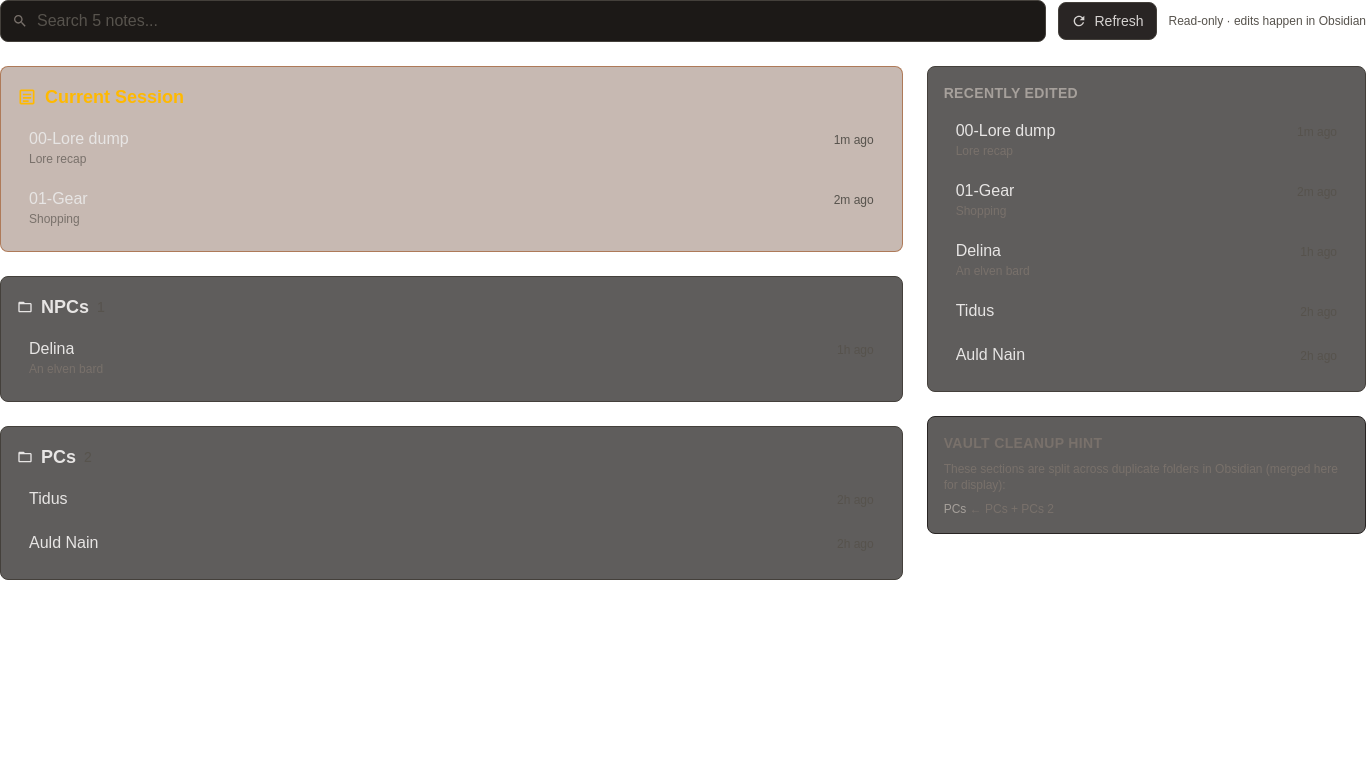
Scenario: VaultTab › opens a note in the reader modal on click
Click the text "Delina" below "NPCs" at x=52, y=349, box [29, 337, 74, 361]
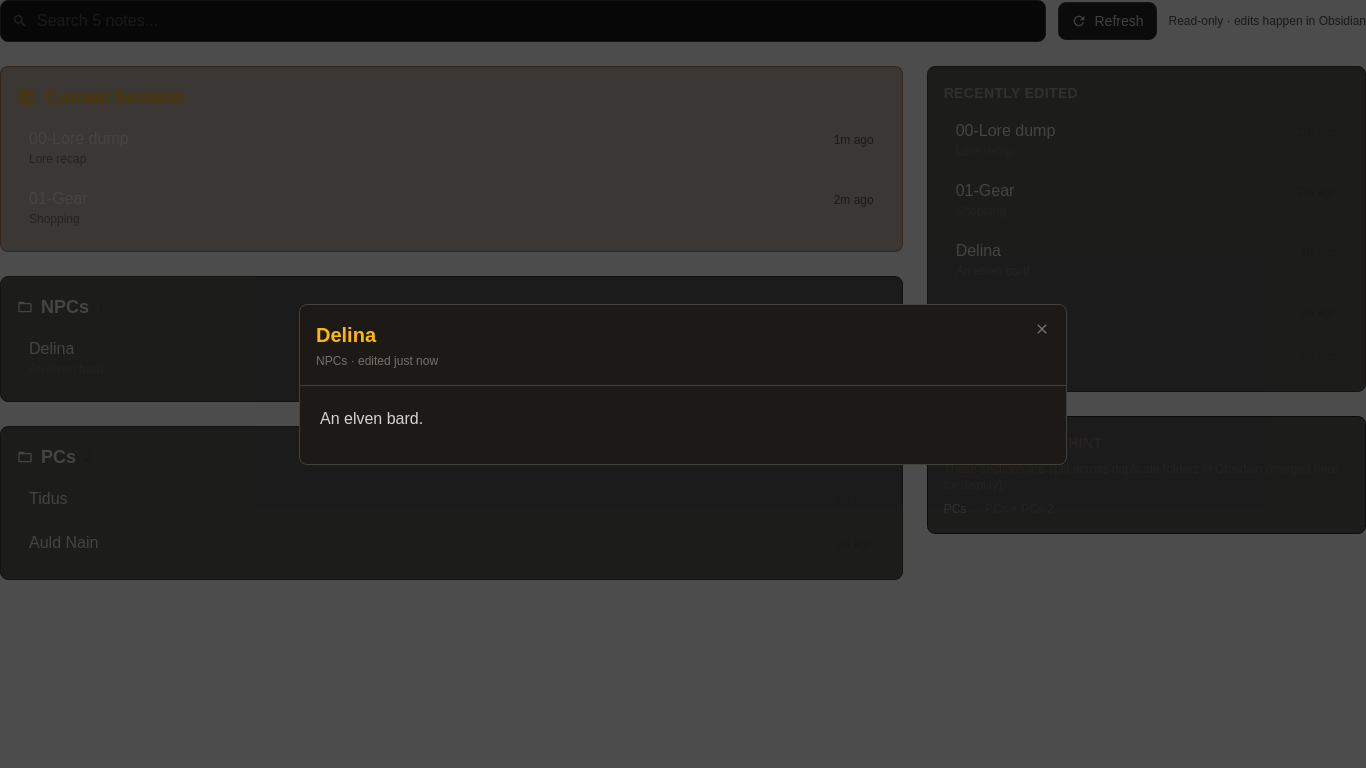
Expected: the text "An elven bard." is shown, [320, 410, 423, 426]
Expected: the heading "Delina" is shown, [316, 324, 376, 346]
